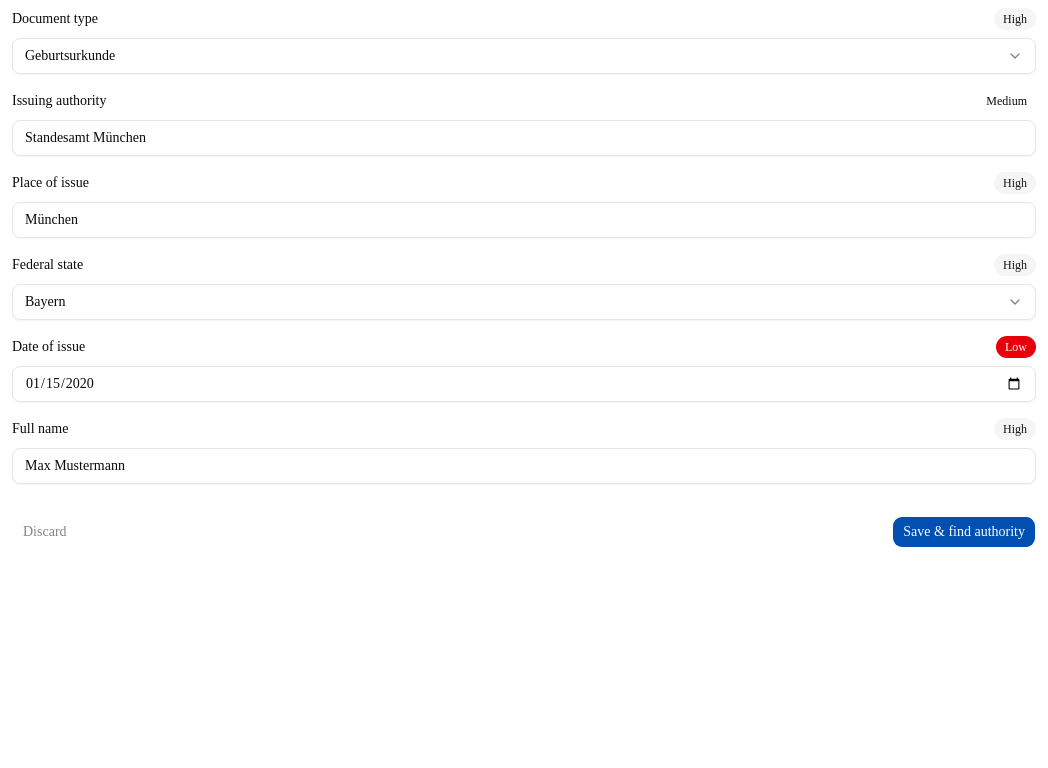
ReviewForm — UI-SPEC Copywriting Contract › shows 'Originally: …' caption and enables Discard when a field is edited
The image size is (1048, 768).
Replace the text in the field labelled "Place of issue" with "Nürnberg" at [524, 220], box [12,202,1036,238]
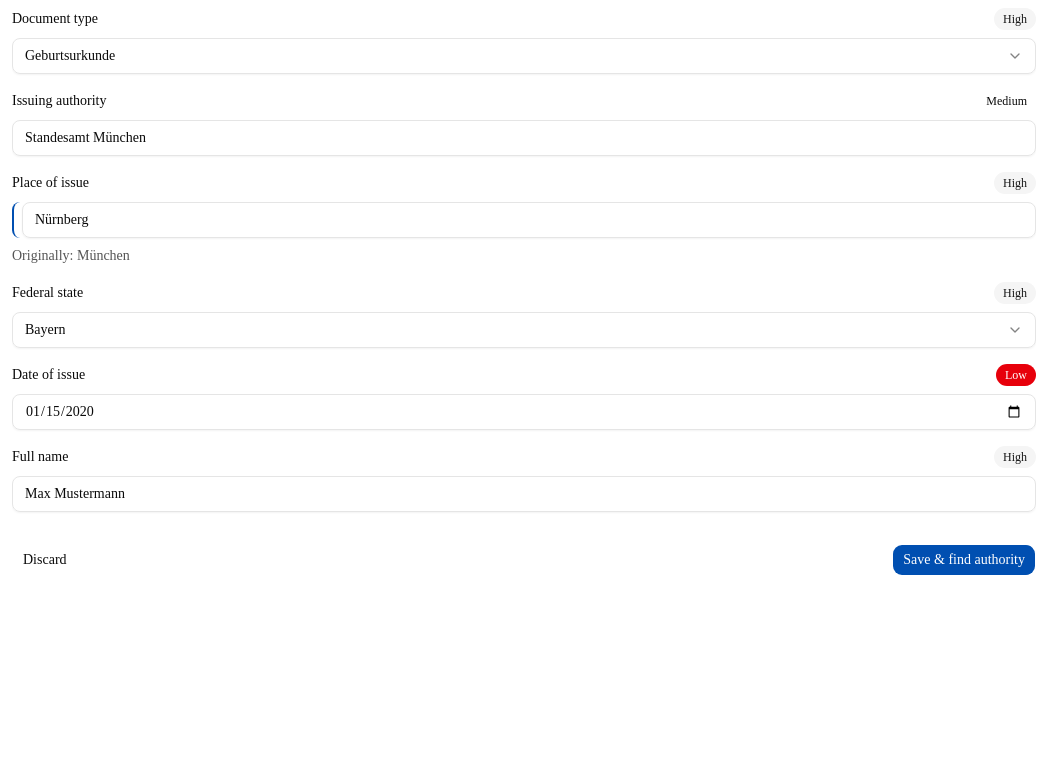
Expected: the text "Originally: München" is shown, [12,248,130,263]
Expected: the button "Discard" is enabled, [12,544,78,576]
